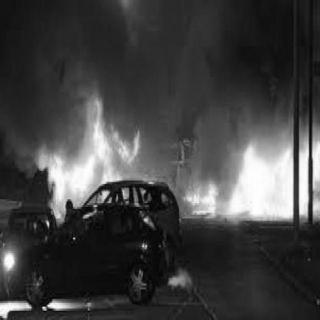Fire: (182, 117, 320, 238), (33, 94, 155, 220)
Smoke: (4, 0, 296, 134)
other: (3, 241, 19, 277)
